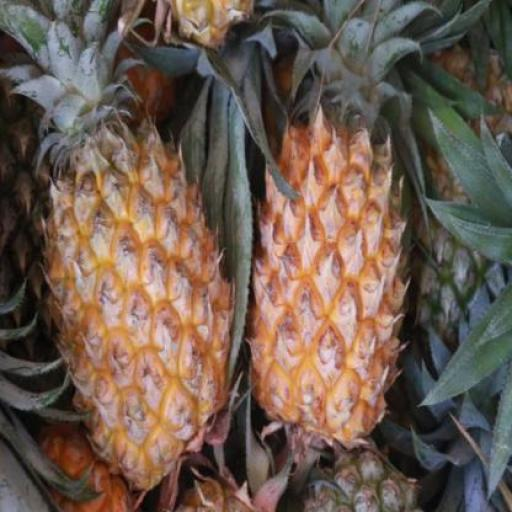Pineapple - v8 v1: (28, 126, 235, 484), (249, 119, 408, 453)
